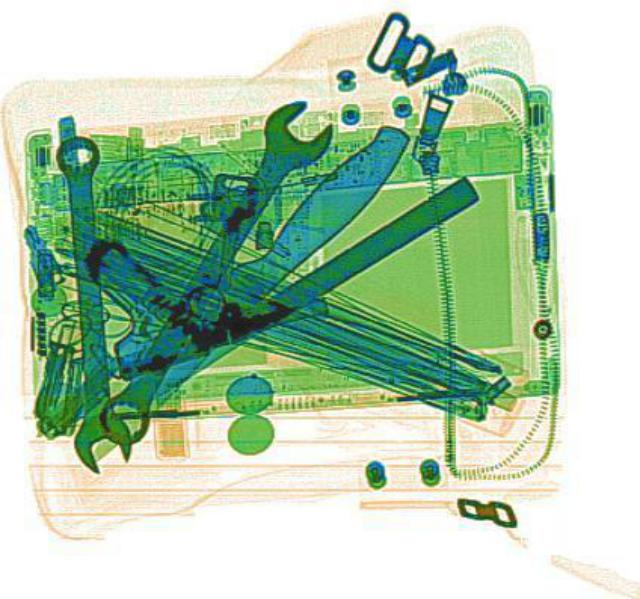Gun: (64, 184, 330, 377)
Knife: (88, 175, 478, 422), (130, 111, 420, 408)
Wrench: (78, 88, 342, 453), (37, 131, 133, 472)
